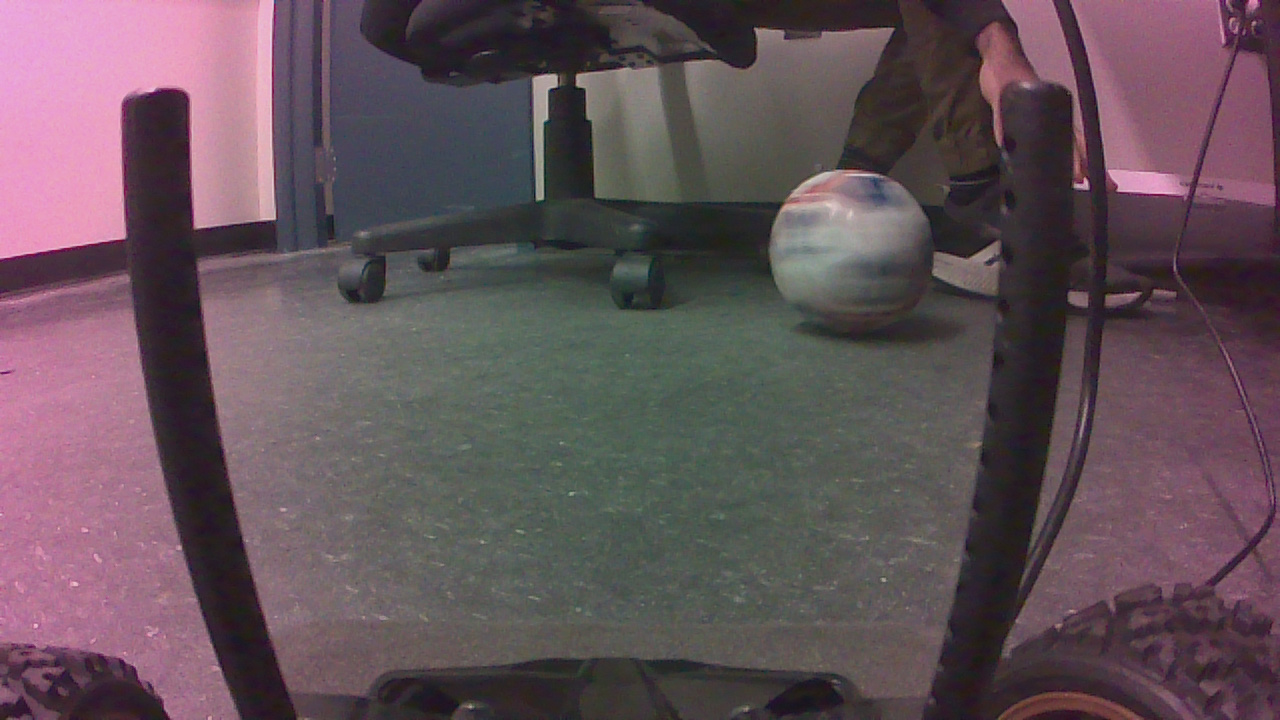ball: (774, 173, 941, 339)
